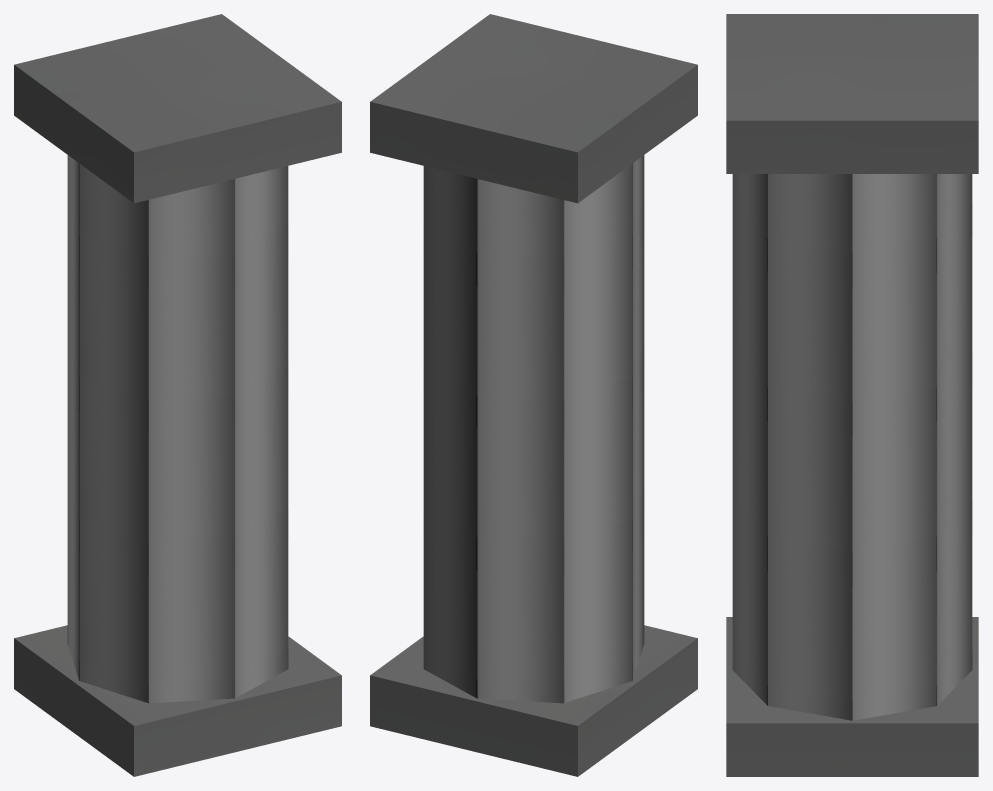
Rendered from Column.fbx.
3 renders of one model, left to right at view 1: azimuth 30°, elevation 25°; view 2: azimuth 150°, elevation 25°; view 3: azimuth 270°, elevation 25°, orthographic. The views are drawn at different scales.
Visible parts, largest first — view 1: Cylinder.009, Cube.052, Cube.051; view 2: Cylinder.009, Cube.052, Cube.051; view 3: Cylinder.009, Cube.052, Cube.051.
Part boxes in pixels (bbox=[...]): Cylinder.009: bbox=[67, 155, 288, 703]; Cube.052: bbox=[14, 14, 341, 203]; Cube.051: bbox=[14, 625, 341, 776]; Cylinder.009: bbox=[423, 155, 644, 703]; Cube.052: bbox=[370, 14, 697, 203]; Cube.051: bbox=[370, 625, 697, 776]; Cylinder.009: bbox=[732, 174, 972, 720]; Cube.052: bbox=[726, 14, 978, 173]; Cube.051: bbox=[726, 617, 978, 776].
Bounding box in the file's own units: 3.82 × 10.98 × 3.82.
